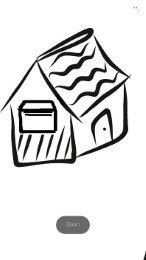closed_window: (18, 99, 57, 132)
door: (89, 108, 113, 145)
roof: (0, 27, 131, 120)
wall: (69, 80, 130, 160)
